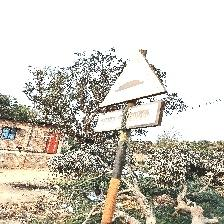Speed-breaker: (93, 50, 169, 133)
